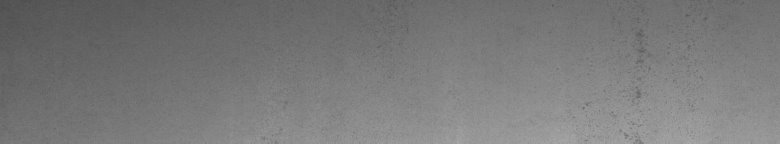ib: (582, 30, 650, 136)
